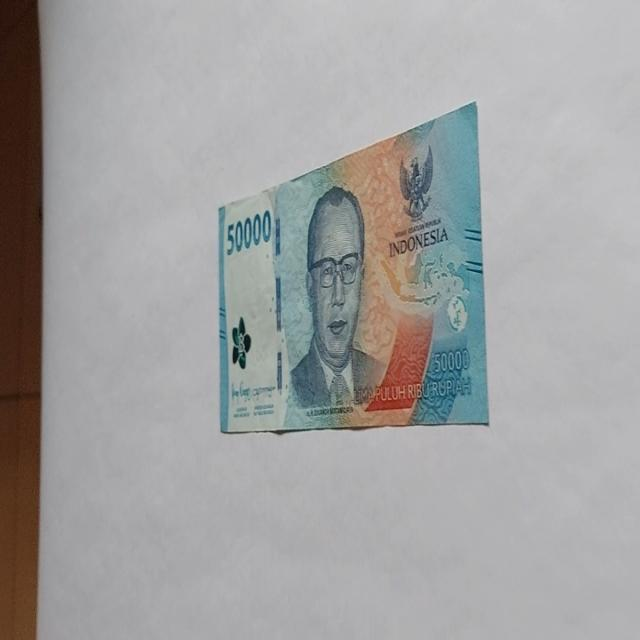lima puluh ribu rupiah: (216, 100, 489, 436), (286, 183, 386, 420)
